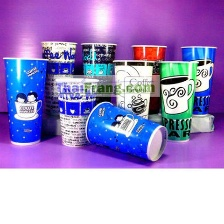paper_cup: (80, 96, 172, 165), (0, 51, 52, 149), (154, 56, 200, 146), (51, 71, 102, 150), (109, 57, 156, 136), (37, 37, 80, 120), (176, 41, 220, 120), (128, 39, 170, 117), (77, 38, 120, 110)
